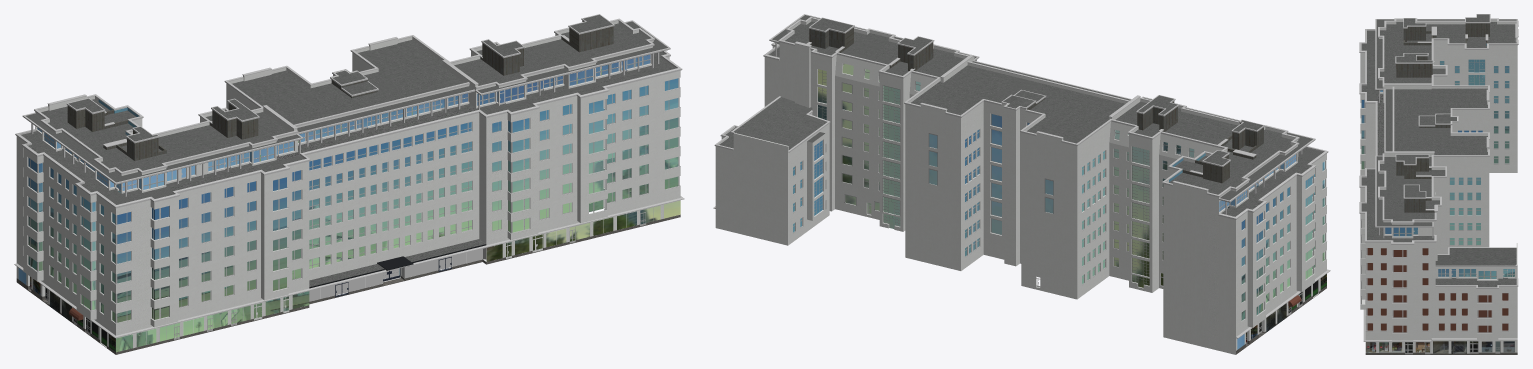
The model's file is uusikatu_22.dae.
3 renders of one model, left to right at view 1: azimuth 30°, elevation 25°; view 2: azimuth 150°, elevation 25°; view 3: azimuth 270°, elevation 25°, orthographic. The views are drawn at different scales.
Parts seen in each view (by area): view 1: uusik_20; view 2: uusik_20; view 3: uusik_20.
Part boxes in pixels (left/top/right/bottom): uusik_20: left=14, top=14, right=684, bottom=354; uusik_20: left=713, top=14, right=1330, bottom=354; uusik_20: left=1359, top=14, right=1518, bottom=354.
Size of the model in its own units: 95.55 by 29.63 by 29.08.
